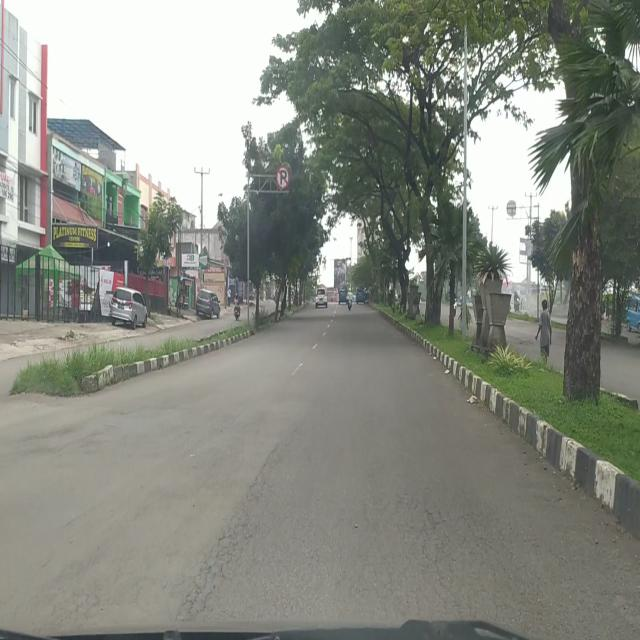Drain Hole: (173, 440, 282, 617), (362, 491, 507, 617)
